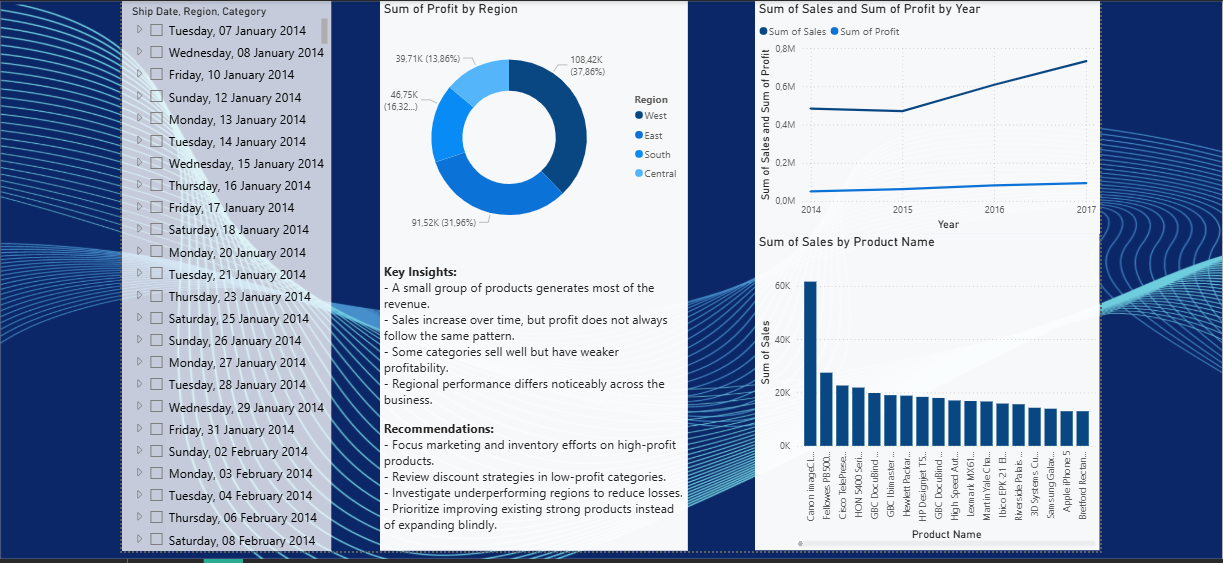

The page's visual inventory and layout, read from the dashboard file:
{"tool":"powerbi","page":{"name":"Page 1","canvas":[1280,720],"ordinal":0},"visuals":[{"type":"lineChart","fields":{"Category":["Sample - Superstore.Order Date.Variation.Date Hierarchy.Year","Sample - Superstore.Order Date.Variation.Date Hierarchy.Month"],"Y":["Sum(Sample - Superstore.Sales)","Sum(Sample - Superstore.Profit)"]},"box":[828.7,0,451.6,305],"z":0},{"type":"clusteredColumnChart","fields":{"Category":["Sample - Superstore.Product Name"],"Y":["Sum(Sample - Superstore.Sales)"]},"box":[828.7,305.6,451.1,414.4],"z":1000},{"type":"slicer","fields":{"Values":["Sample - Superstore.Ship Date","Sample - Superstore.Region","Sample - Superstore.Category"]},"box":[0,0,273.6,720],"z":3000},{"type":"textbox","box":[338,338,402.6,382],"z":3003},{"type":"donutChart","fields":{"Category":["Sample - Superstore.Region"],"Y":["Sum(Sample - Superstore.Profit)"]},"box":[338,0,403,338],"z":3004}]}

Visuals, with their boxes in screenshot pixels (x1, y1, x2, y2):
lineChart - Sample - Superstore.Order Date.Variation.Date Hierarchy.Year x Sample - Superstore.Order Date.Variation.Date Hierarchy.Month: x1=755, y1=0, x2=1103, y2=226
clusteredColumnChart - Sample - Superstore.Product Name x Sum(Sample - Superstore.Sales): x1=755, y1=226, x2=1103, y2=546
slicer - Sample - Superstore.Ship Date x Sample - Superstore.Region: x1=115, y1=0, x2=326, y2=546
textbox: x1=376, y1=251, x2=686, y2=546
donutChart - Sample - Superstore.Region x Sum(Sample - Superstore.Profit): x1=376, y1=0, x2=687, y2=251
